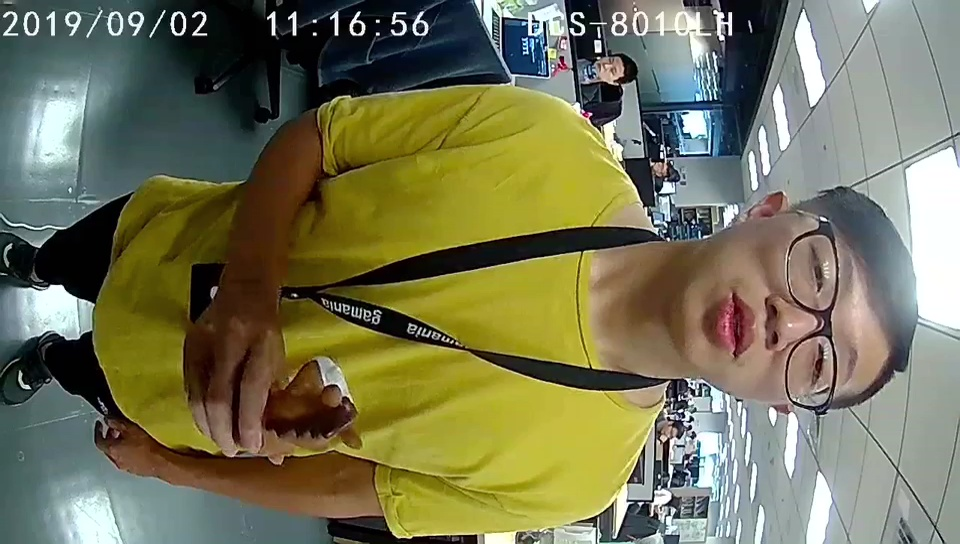horse: (268, 354, 363, 455)
